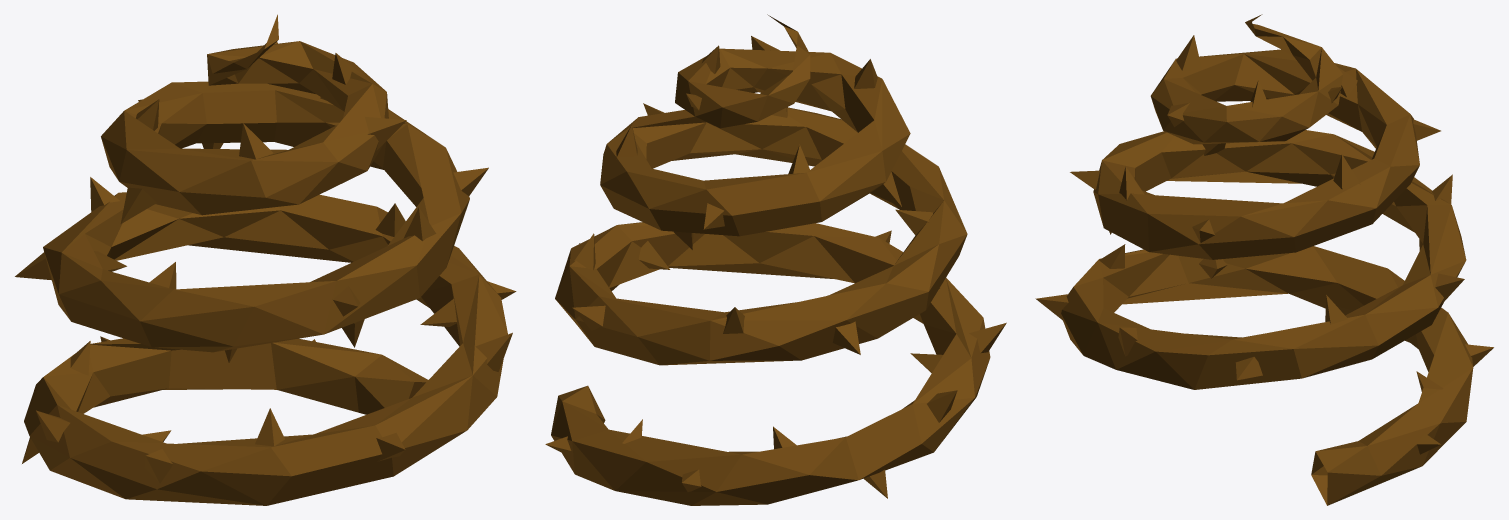
Rendered from TreeRoot_Spin.fbx.
The picture shows the model from 3 angles, left to right: view 1: azimuth 30°, elevation 25°; view 2: azimuth 150°, elevation 25°; view 3: azimuth 270°, elevation 25°; orthographic projection. The views are drawn at different scales.
Visible parts, largest first — view 1: Thron02; view 2: Thron02; view 3: Thron02.
Boxes of the visible parts, left/top/right/bottom form: Thron02: left=15, top=14, right=516, bottom=505; Thron02: left=545, top=14, right=1006, bottom=505; Thron02: left=1035, top=14, right=1493, bottom=505.
Bounding box in the file's own units: 5.15 × 5.32 × 5.33.
